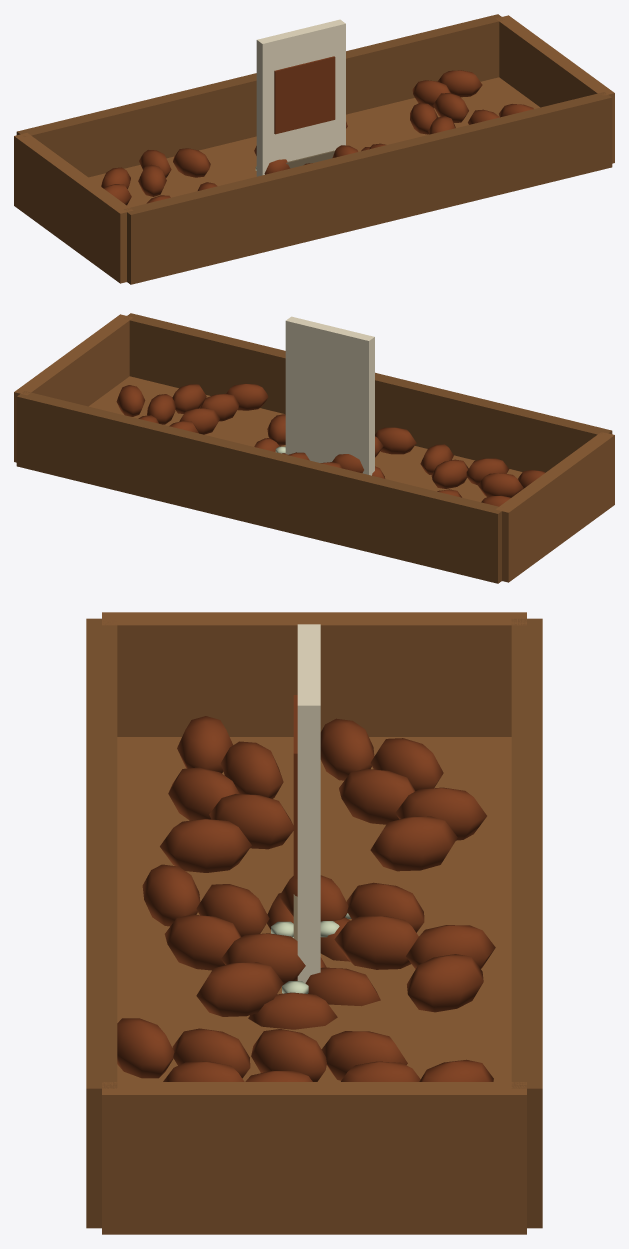
Rendered from Fruit_Date.fbx.
3 renders of one model, top to bottom at view 1: azimuth 30°, elevation 25°; view 2: azimuth 150°, elevation 25°; view 3: azimuth 270°, elevation 25°, orthographic. The views are drawn at different scales.
Parts seen in each view (by area): view 1: Fruit_Date__Stack, Fruit_Date__Seed; view 2: Fruit_Date__Stack, Fruit_Date__Seed; view 3: Fruit_Date__Stack, Fruit_Date__Seed, Fruit_Date, Fruit_Date__Rotten.
Boxes of the visible parts, x1,y1,x2,y2 form: Fruit_Date__Stack: (14, 14, 614, 284); Fruit_Date__Seed: (256, 19, 345, 176); Fruit_Date__Stack: (14, 313, 614, 583); Fruit_Date__Seed: (285, 316, 374, 475); Fruit_Date__Stack: (86, 612, 542, 1234); Fruit_Date__Seed: (293, 624, 320, 983); Fruit_Date: (248, 893, 380, 1029); Fruit_Date__Rotten: (271, 913, 351, 993).
Bounding box in the file's own units: 0.2965 × 0.09 × 0.1184.
